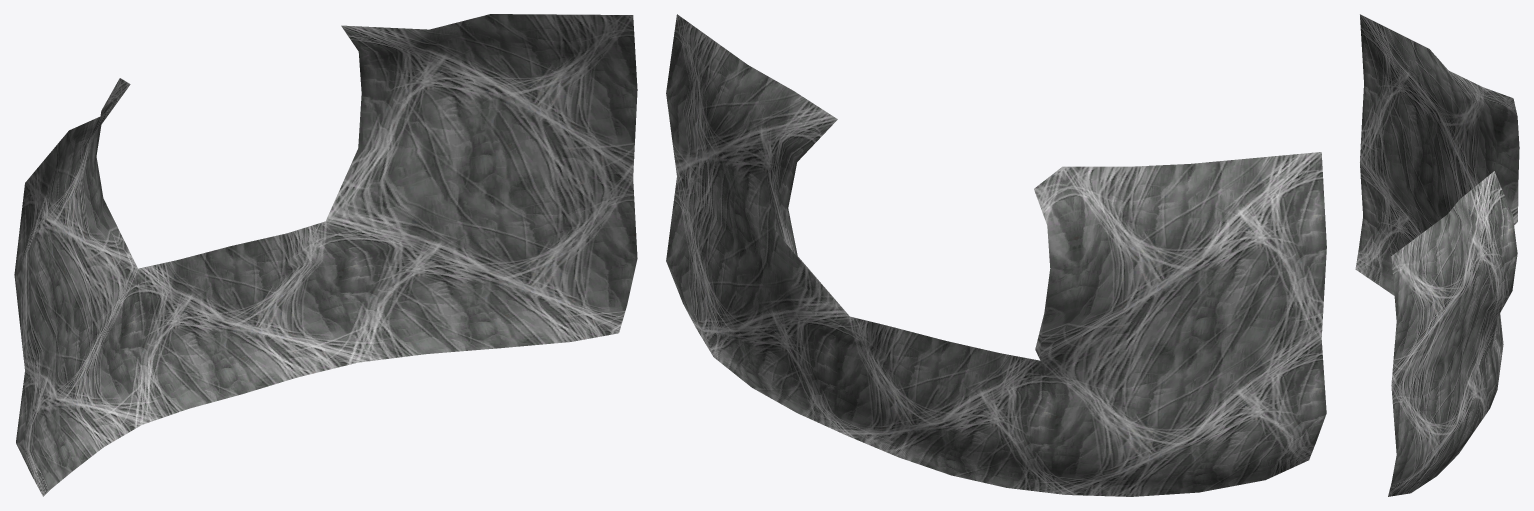
The model's file is SWORDLIGHT20_PS-AREA01_34.fbx.
3 renders of one model, left to right at view 1: azimuth 30°, elevation 25°; view 2: azimuth 150°, elevation 25°; view 3: azimuth 270°, elevation 25°, orthographic. The views are drawn at different scales.
Visible parts, largest first — view 1: SWORDLIGHT20_PS-AREA01_34; view 2: SWORDLIGHT20_PS-AREA01_34; view 3: SWORDLIGHT20_PS-AREA01_34.
Part boxes in pixels (x1,y1,x2,y2): SWORDLIGHT20_PS-AREA01_34: (14, 14, 637, 496); SWORDLIGHT20_PS-AREA01_34: (666, 14, 1326, 496); SWORDLIGHT20_PS-AREA01_34: (1355, 14, 1519, 496).
Size of the model in its own units: 176483 by 89476 by 49305.
Materials: 1 (1 with a texture image).
